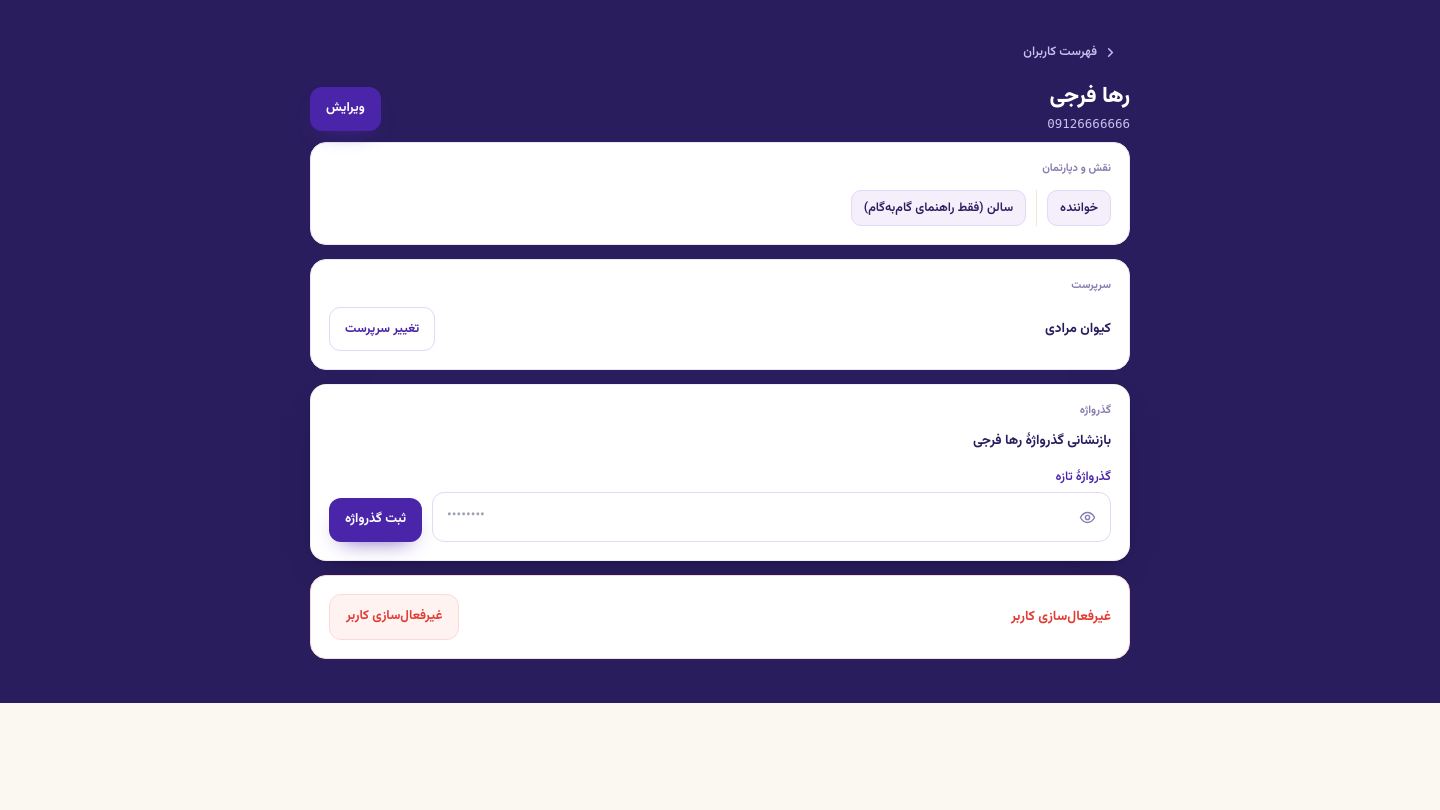
Test case: the scope fieldset › draws a report-scoped account's own grant
Click the button "ویرایش" at (345,109), box top-left (310, 87), bottom-right (381, 131)
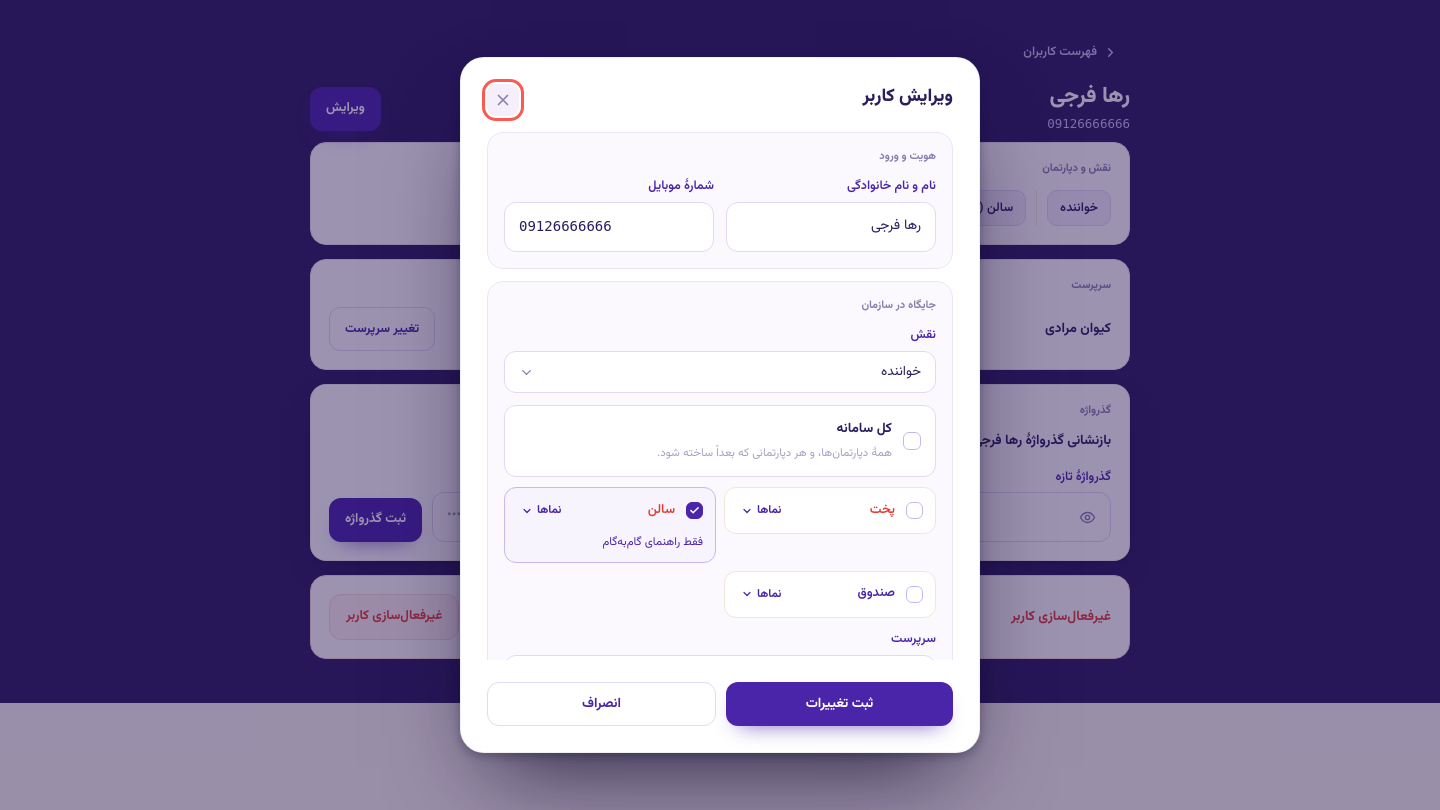
Now the dialog is shown, box top-left (460, 57), bottom-right (980, 753)
Now the checkbox labelled "سالن" is shown, box top-left (504, 487), bottom-right (716, 562)
Now the text "فقط راهنمای گام‌به‌گام" is shown, box top-left (602, 533), bottom-right (703, 551)
Click the 1st button "نماها" at (541,511), box top-left (517, 498), bottom-right (565, 523)
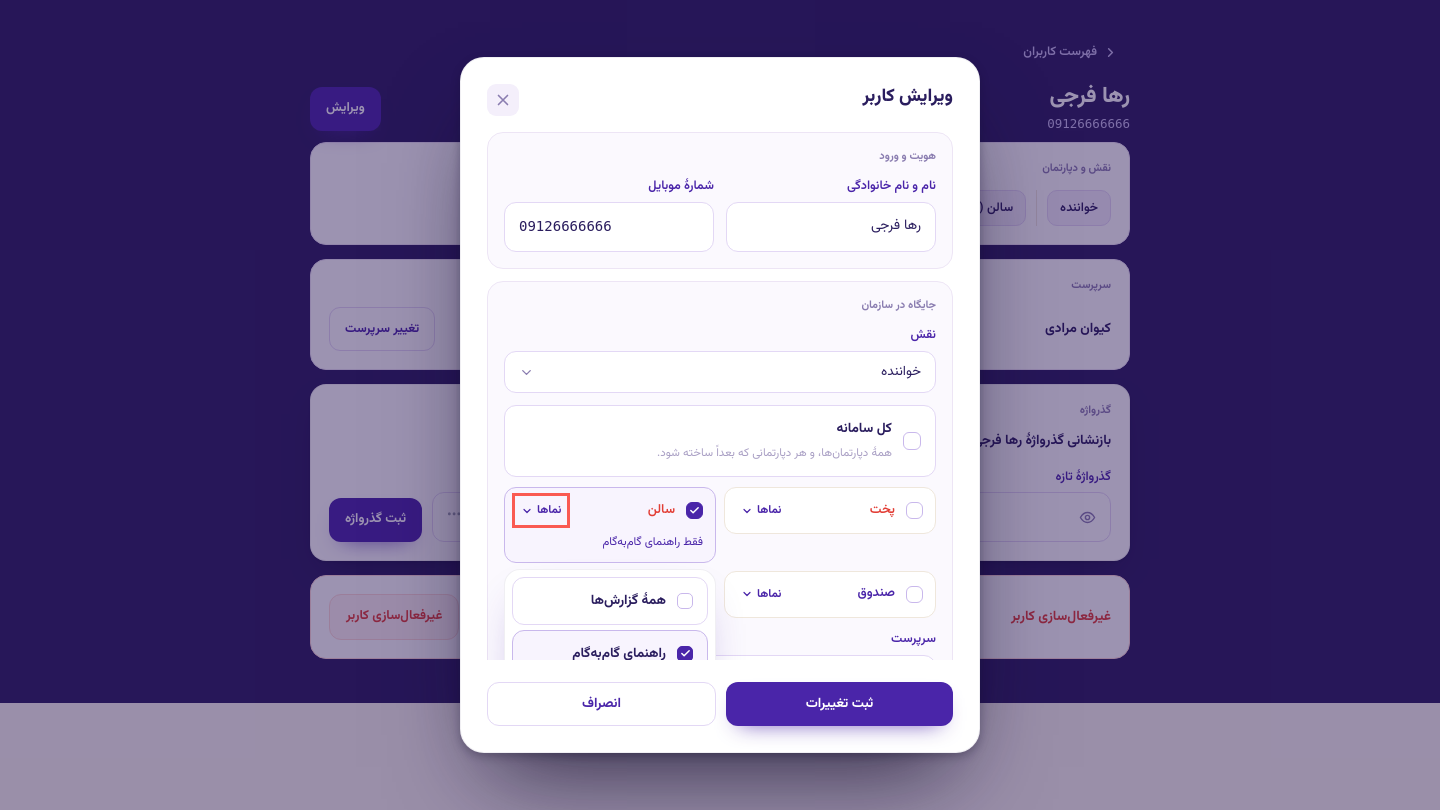
Now the checkbox labelled "سالن" is checked, box top-left (504, 487), bottom-right (716, 562)
Now the checkbox labelled "راهنمای گام‌به‌گام" is checked, box top-left (512, 630), bottom-right (708, 660)
Now the checkbox labelled "همهٔ گزارش‌ها" is not checked, box top-left (512, 576), bottom-right (708, 625)
